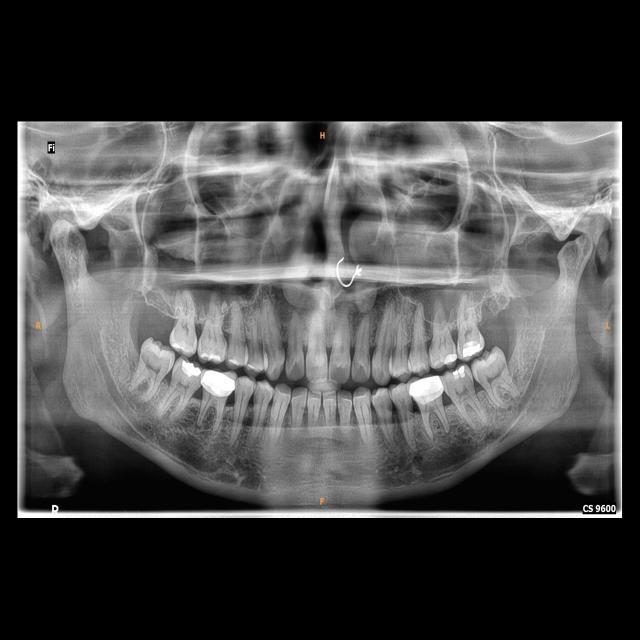dolgu: (454, 338, 485, 360), (175, 358, 202, 382), (432, 346, 459, 367), (450, 364, 470, 383)
kaplama: (201, 366, 238, 401), (406, 373, 446, 404)
